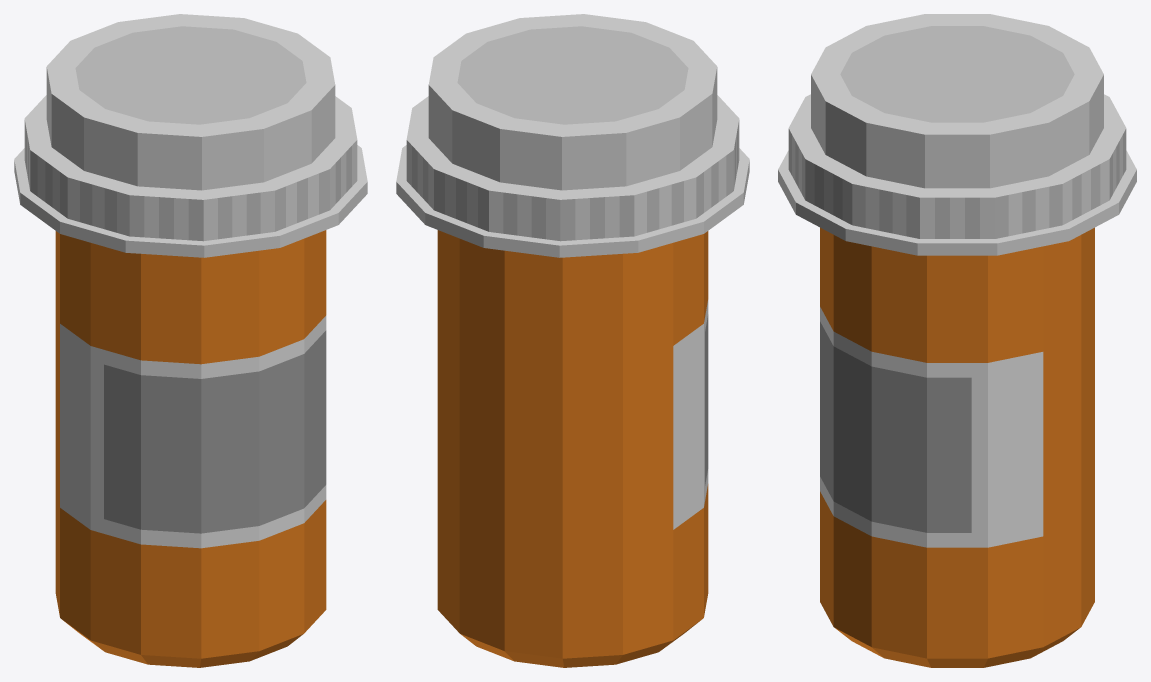
The model's file is PillBottle.glb.
3 renders of one model, left to right at view 1: azimuth 30°, elevation 25°; view 2: azimuth 150°, elevation 25°; view 3: azimuth 270°, elevation 25°, orthographic.
Visible parts, largest first — view 1: Cylinder; view 2: Cylinder; view 3: Cylinder.
Boxes of the visible parts, x1=… form: Cylinder: x1=14, y1=14, x2=367, y2=667; Cylinder: x1=396, y1=14, x2=749, y2=667; Cylinder: x1=778, y1=14, x2=1136, y2=667.
Bounding box in the file's own units: 0.0407 × 0.07 × 0.0417.
